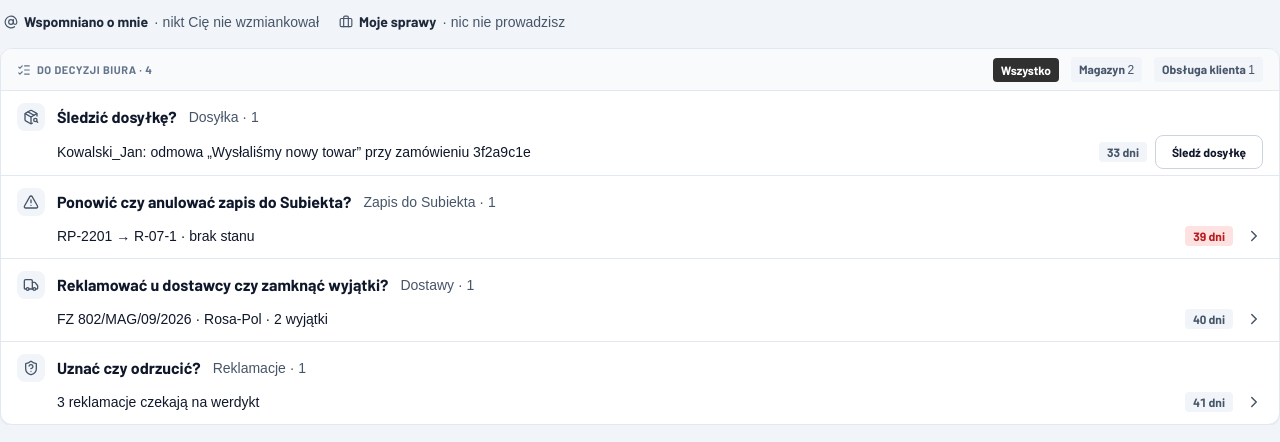
Test: DO ZROBIENIA — trzy sekcje na jednym ekranie › „Śledź dosyłkę” idzie bez ciała, a wiersz schodzi po odświeżeniu listy
Click the button with aria-label "Śledź dosyłkę — " at [1209, 152], box [1155,135,1263,169]
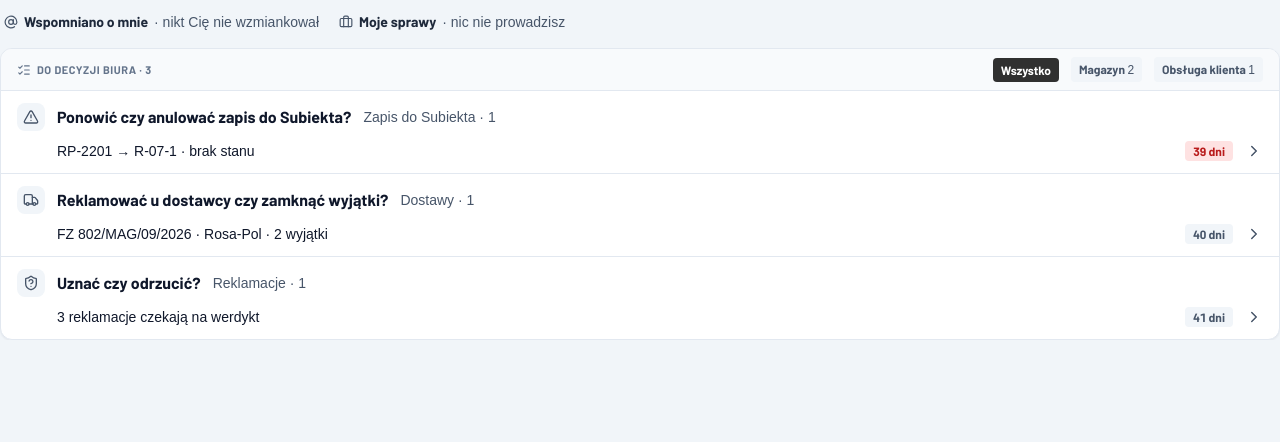
Expected: the text "Śledzić dosyłkę?" is gone
